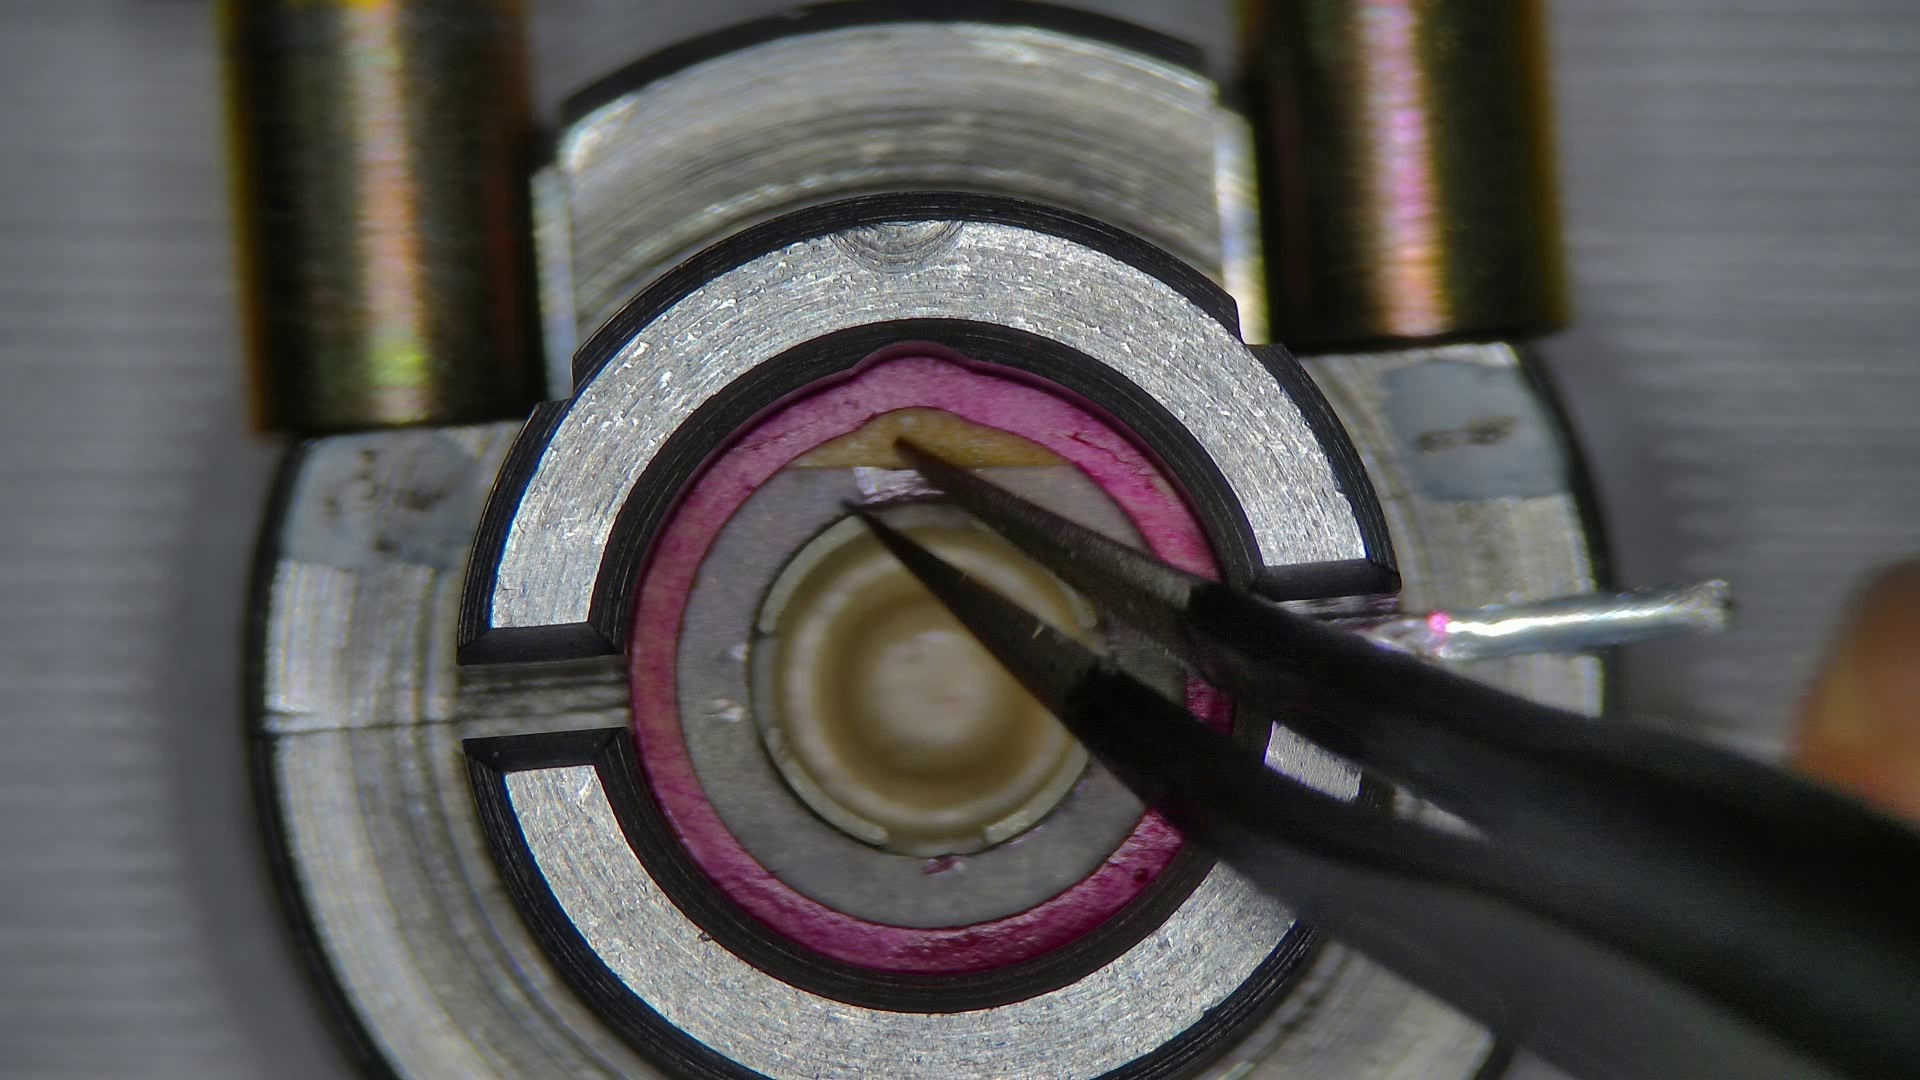GreyOring: (629, 356, 1215, 975), (1184, 680, 1234, 729)
YellowOring: (675, 467, 1141, 924), (996, 469, 1135, 545)
redOring: (789, 410, 1077, 475)
